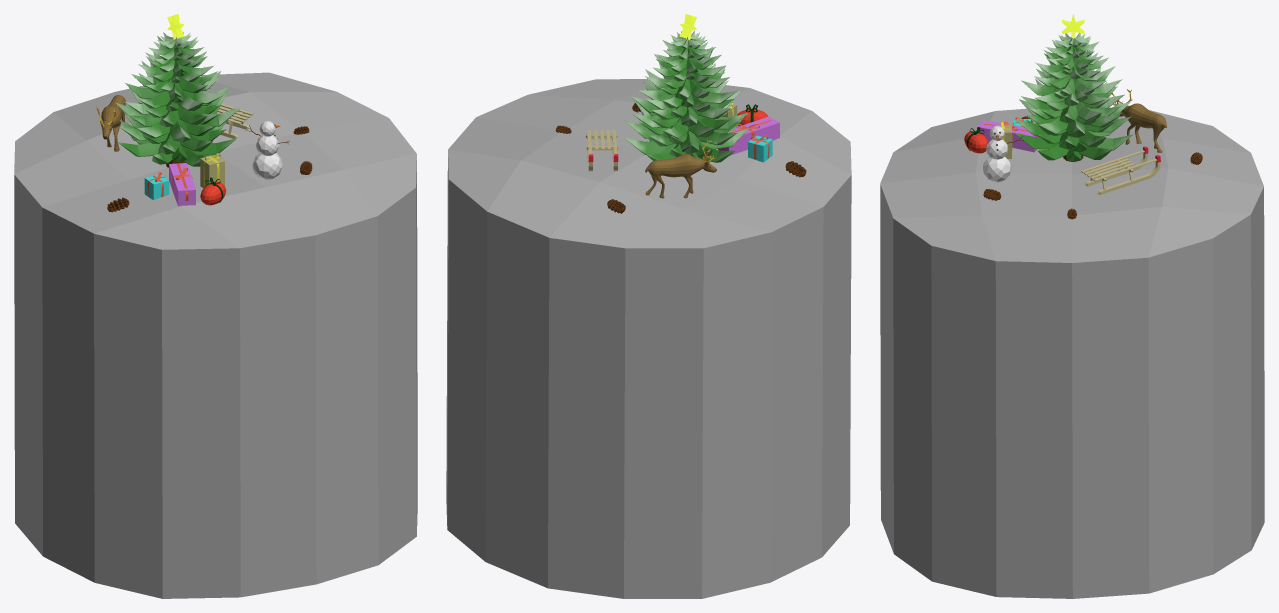
The model's file is Christmas_Tree.glb.
3 renders of one model, left to right at view 1: azimuth 30°, elevation 25°; view 2: azimuth 150°, elevation 25°; view 3: azimuth 270°, elevation 25°, orthographic. The views are drawn at different scales.
Visible parts, largest first — view 1: Plane.002; view 2: Plane.002; view 3: Plane.002.
Boxes of the visible parts, x1,y1,x2,y2 form: Plane.002: (14, 14, 417, 598); Plane.002: (446, 14, 851, 598); Plane.002: (880, 14, 1264, 598).
Bounding box in the file's own units: 82.36 × 115 × 82.24.
21 materials, 1 textured.
